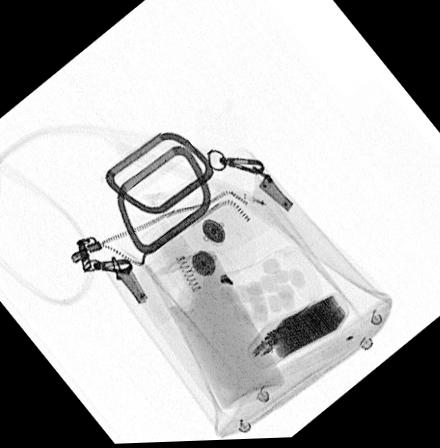Powerbank: (244, 293, 350, 374)
